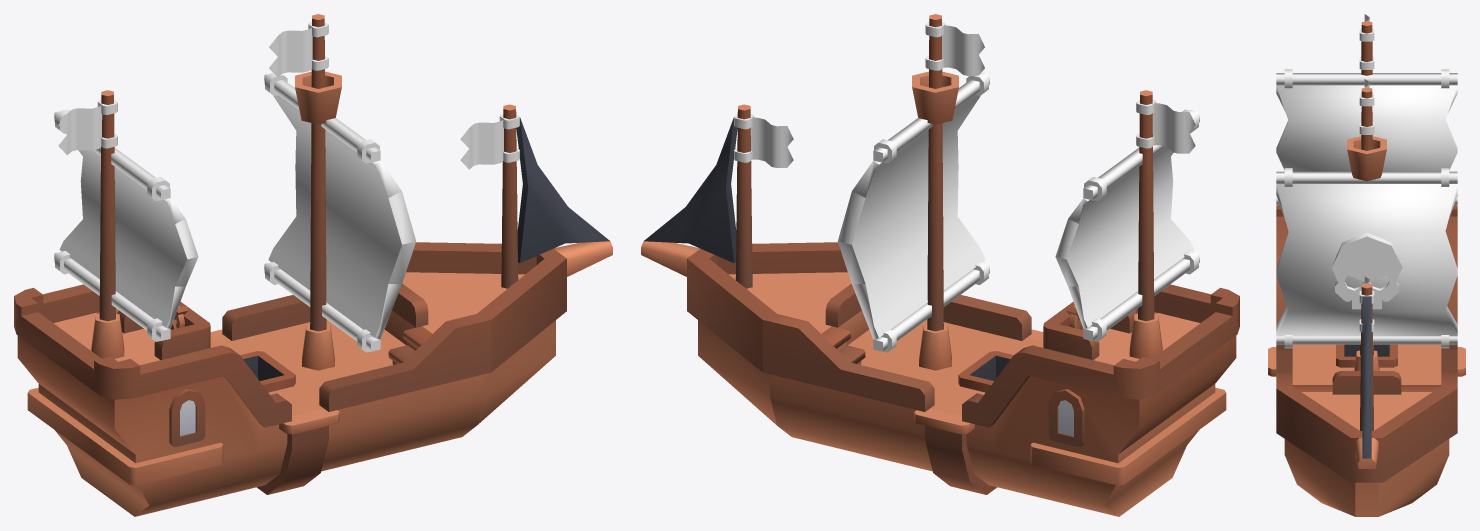
The model's file is bomb_ketch.glb.
The picture shows the model from 3 angles, left to right: view 1: azimuth 30°, elevation 25°; view 2: azimuth 150°, elevation 25°; view 3: azimuth 270°, elevation 25°; orthographic projection. The views are drawn at different scales.
Parts seen in each view (by area): view 1: ship-pirate-large, sail-a, sail-b, flag-c (×3); view 2: ship-pirate-large, sail-a, sail-b, flag-c (×3); view 3: ship-pirate-large, sail-a, sail-b, flag-c (×3).
Part boxes in pixels (left/top/right/bottom): ship-pirate-large: left=14, top=14, right=612, bottom=516; sail-a: left=264, top=73, right=416, bottom=352; sail-b: left=54, top=109, right=198, bottom=341; flag-c (×3): left=58, top=21, right=519, bottom=169; ship-pirate-large: left=641, top=14, right=1239, bottom=516; sail-a: left=837, top=73, right=989, bottom=352; sail-b: left=1055, top=109, right=1199, bottom=341; flag-c (×3): left=734, top=21, right=1195, bottom=167; ship-pirate-large: left=1268, top=21, right=1465, bottom=516; sail-a: left=1276, top=168, right=1457, bottom=348; sail-b: left=1276, top=69, right=1457, bottom=204; flag-c (×3): left=1359, top=14, right=1374, bottom=331.
Bounding box in the file's own units: 1.3 × 0.9887 × 0.4763.
2 materials, 1 textured.
